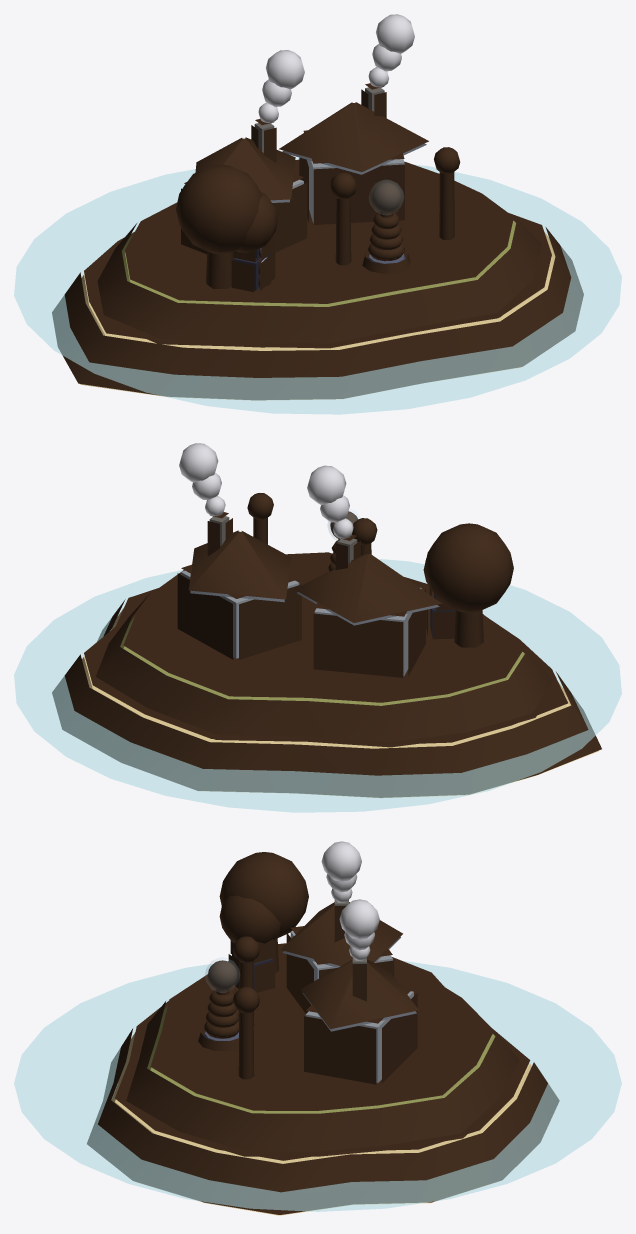
The model's file is island-forge.glb.
The picture shows the model from 3 angles, top to bottom: view 1: azimuth 30°, elevation 25°; view 2: azimuth 150°, elevation 25°; view 3: azimuth 270°, elevation 25°; orthographic projection.
Parts seen in each view (by area): view 1: outline (×16), Group (×3); view 2: outline (×12), Group (×3); view 3: outline (×14), Group (×3).
Boxes of the visible parts, bbox=[...] form: outline (×16): bbox=[52, 102, 583, 400]; Group (×3): bbox=[14, 14, 621, 414]; outline (×12): bbox=[52, 493, 601, 797]; Group (×3): bbox=[14, 443, 621, 812]; outline (×14): bbox=[87, 852, 559, 1214]; Group (×3): bbox=[14, 841, 621, 1215].
Size of the model in its own units: 5.1 by 2.35 by 5.1.
